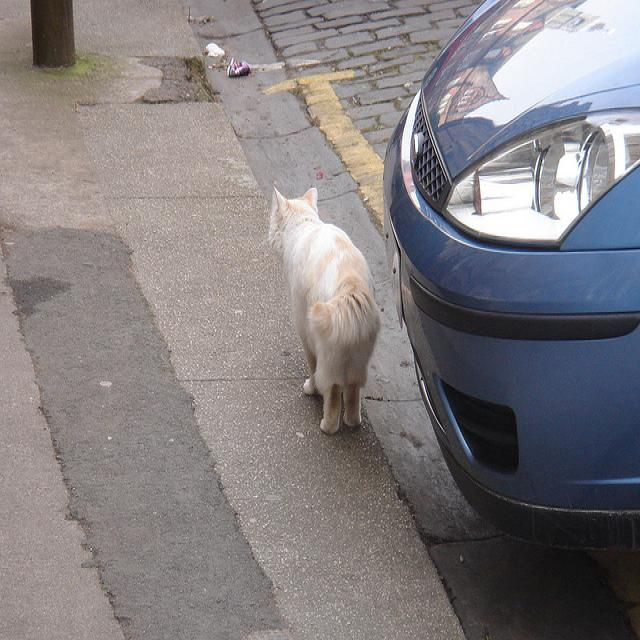Vehicle: (378, 0, 640, 551)
